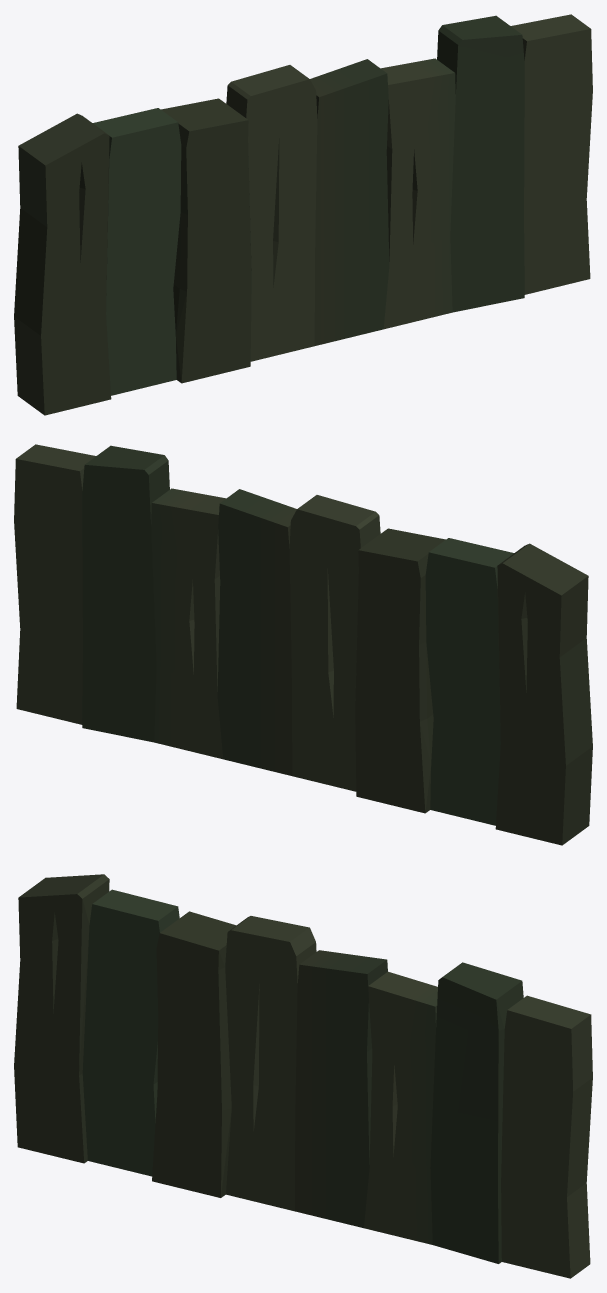
Rendered from BG_woodfence04.fbx.
3 renders of one model, top to bottom at view 1: azimuth 30°, elevation 25°; view 2: azimuth 150°, elevation 25°; view 3: azimuth 330°, elevation 25°, orthographic.
Visible parts, largest first — view 1: BG_woodfence_04; view 2: BG_woodfence_04; view 3: BG_woodfence_04.
Part boxes in pixels (<box>): BG_woodfence_04: <box>14,14,592,415</box>; BG_woodfence_04: <box>14,444,592,845</box>; BG_woodfence_04: <box>14,874,592,1278</box>.
Size of what is drawn, in the model's own units: 40.45 by 18.82 by 3.74.
